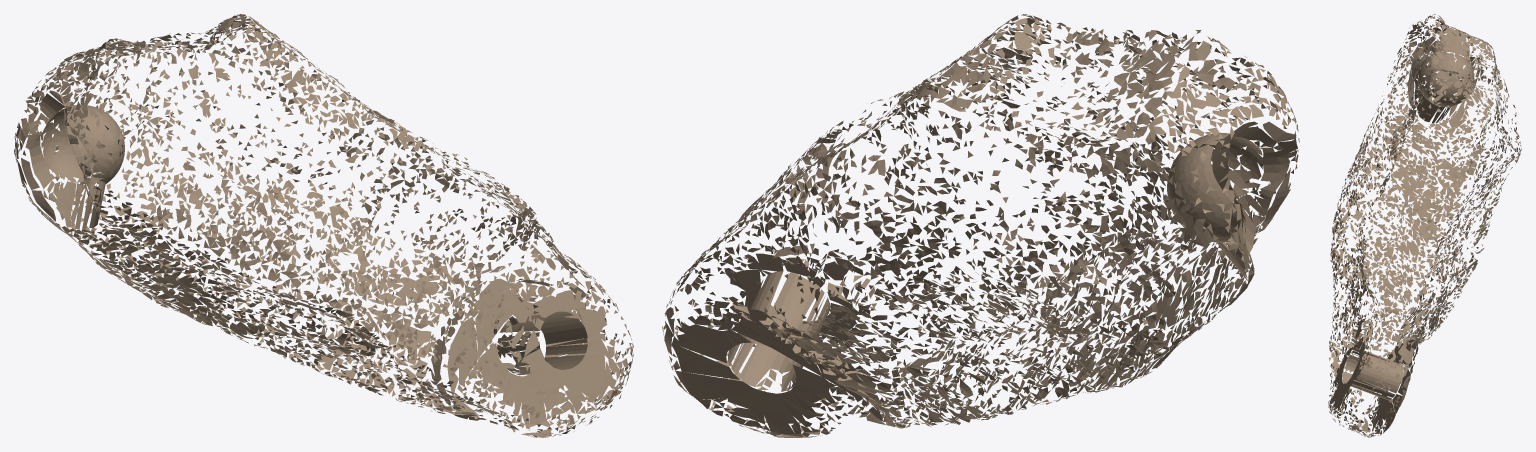
The model's file is rocky_pata_izquierda_superior.obj.
3 renders of one model, left to right at view 1: azimuth 30°, elevation 25°; view 2: azimuth 150°, elevation 25°; view 3: azimuth 270°, elevation 25°, orthographic. The views are drawn at different scales.
Size of the model in its own units: 0.3638 by 0.2977 by 0.1773.
1 material, 1 textured.
